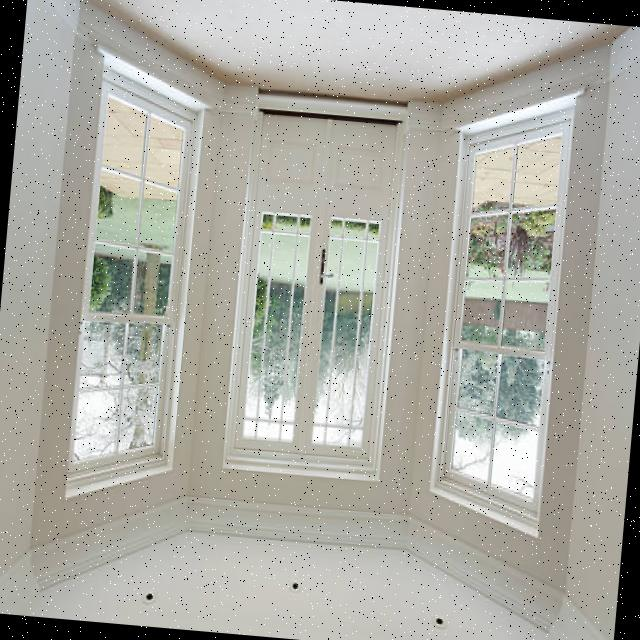Door: (210, 73, 428, 500)
Window: (424, 72, 588, 528), (58, 60, 215, 524)
